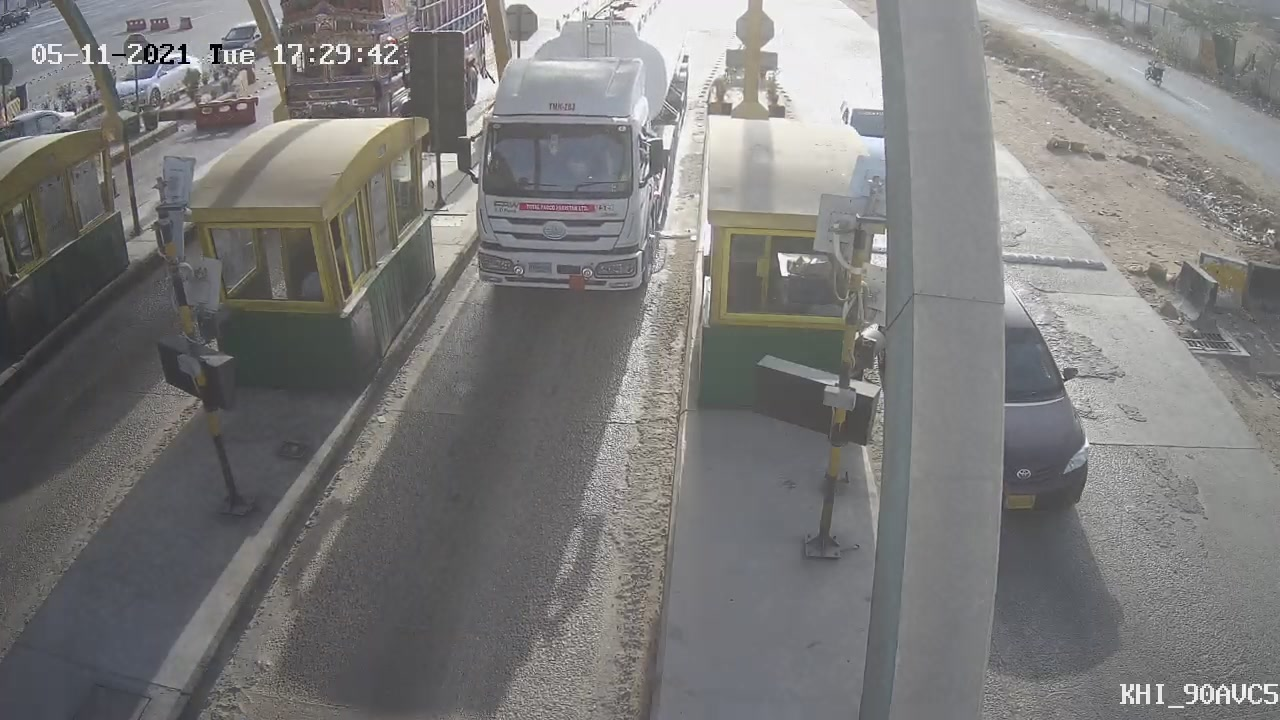F6: (443, 1, 707, 317)
